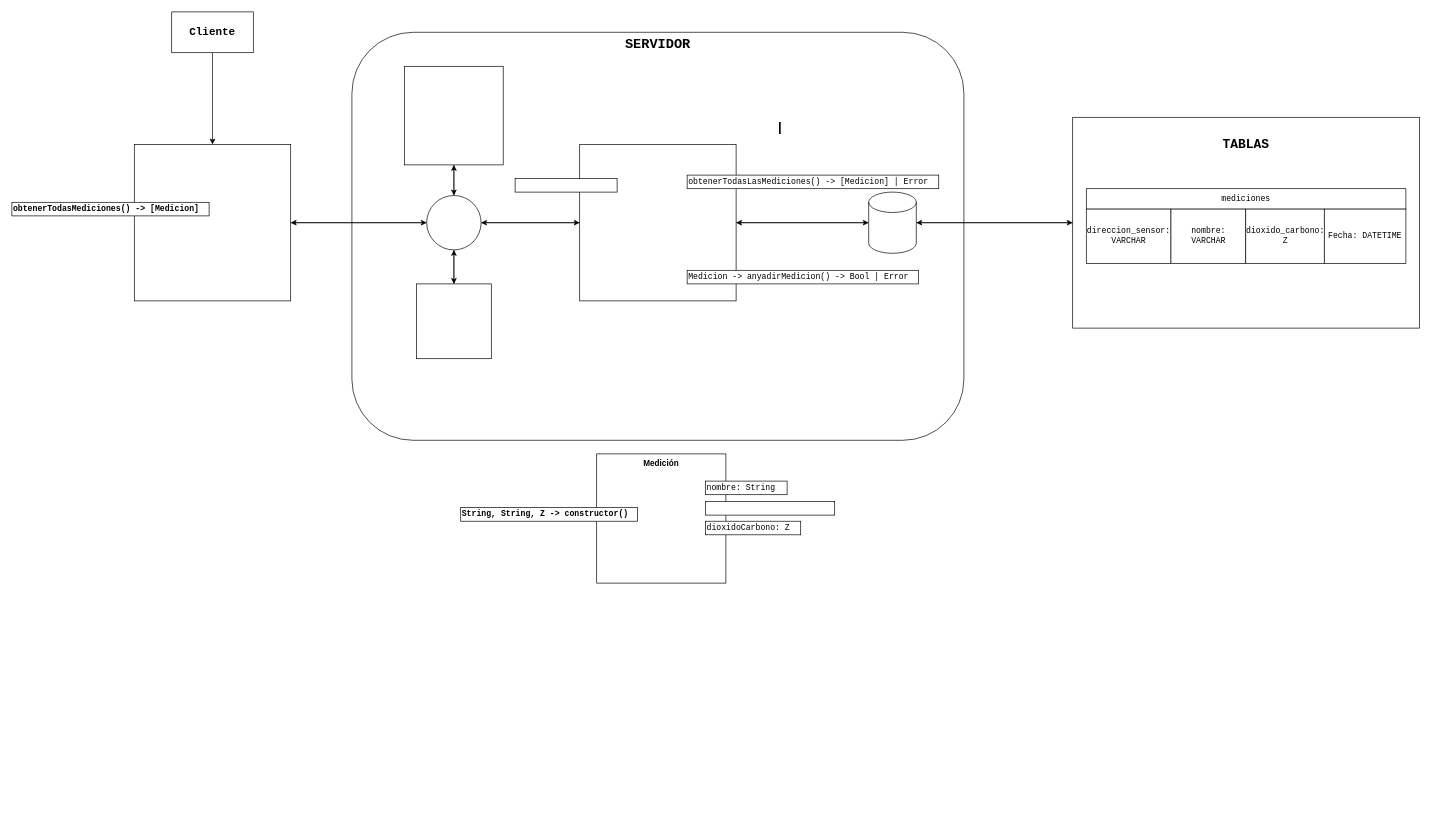
Some shapes in this 1431 by 838 pixel diagram are drawn without their labels. Each missing label, with the centre of its shape:
"-> constructor() ->" belongs at point 565,185.
"Api Rest" belongs at point 453,222.
"ControladorMedicion" belongs at point 453,115.
"DB" belongs at point 892,222.
"direccion_sensor: String" belongs at point 770,508.
"Logica Fake" belongs at point 212,222.
"logicaMedicion" belongs at point 657,222.
"RouterMedicion" belongs at point 453,321.
